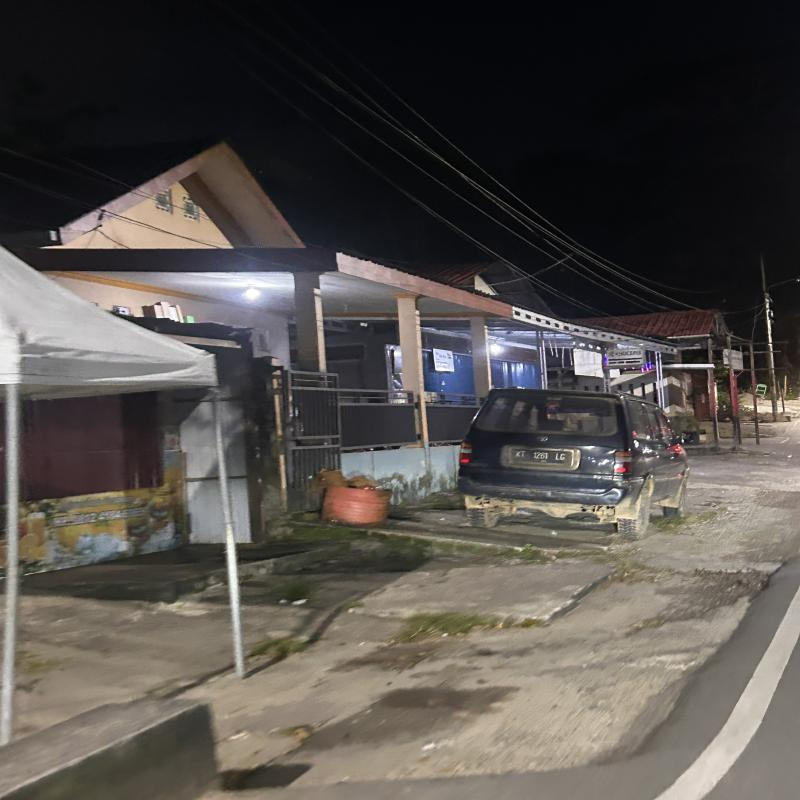license plate on a car: (506, 448, 575, 469)
